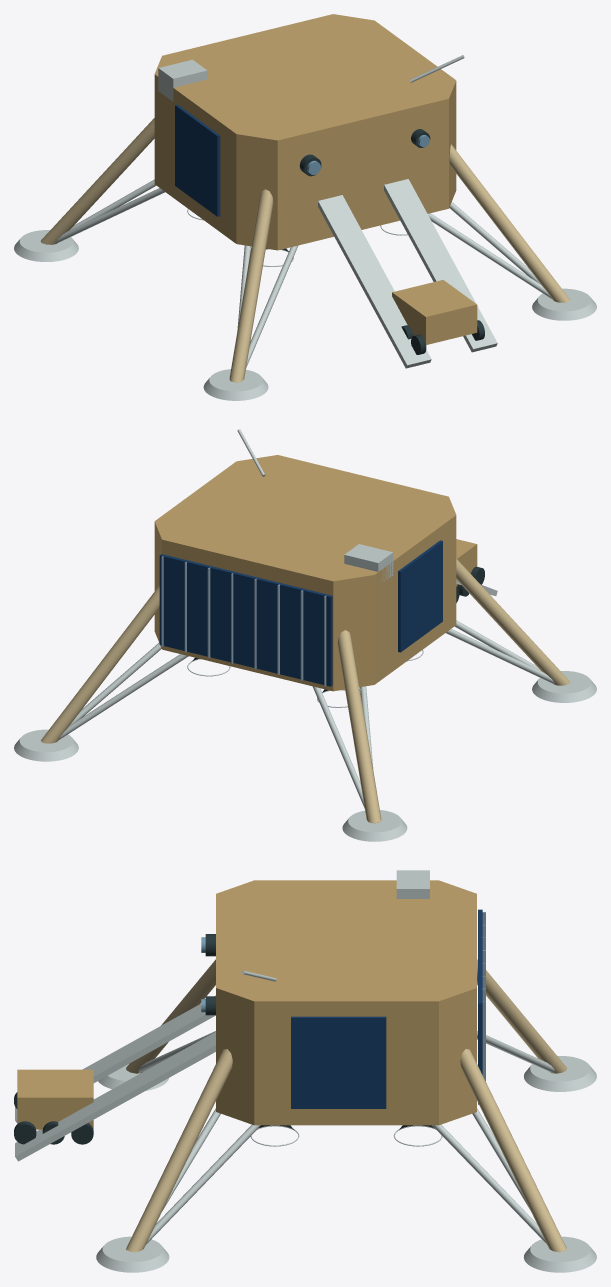
The model's file is chandrayaan-3.glb.
3 renders of one model, top to bottom at view 1: azimuth 30°, elevation 25°; view 2: azimuth 150°, elevation 25°; view 3: azimuth 270°, elevation 25°, orthographic. The views are drawn at different scales.
Parts seen in each view (by area): view 1: Vikram-cut-corner-body, Pragyan-deployment-ramp (×2), legs, Pragyan-rover-envelope, Vikram-side-cell-surface, landing-leg-2, landing-leg-1, landing-leg-3, landing-footpad-2, landing-footpad-1, landing-footpad-3, ChaSTE-functional-package (+1 smaller); view 2: Vikram-cut-corner-body, Vikram-side-solar-array, legs, Vikram-side-cell-surface, landing-leg-3, landing-leg-4, solar, landing-leg-2, landing-footpad-3, landing-footpad-4, landing-footpad-2, ChaSTE-functional-package (+1 smaller); view 3: Vikram-cut-corner-body, Vikram-side-cell-surface, Pragyan-deployment-ramp (×2), legs, Pragyan-rover-envelope, landing-leg-4, landing-leg-1, landing-leg-3, landing-footpad-4, landing-footpad-1, landing-footpad-3, landing-leg-2 (+5 smaller).
Boxes of the visible parts, <box> form: Vikram-cut-corner-body: <box>154,14,456,250</box>; Pragyan-deployment-ramp (×2): <box>318,179,497,368</box>; legs: <box>56,179,552,367</box>; Pragyan-rover-envelope: <box>392,280,477,344</box>; Vikram-side-cell-surface: <box>175,104,220,216</box>; landing-leg-2: <box>229,189,273,382</box>; landing-leg-1: <box>449,144,570,302</box>; landing-leg-3: <box>40,118,154,244</box>; landing-footpad-2: <box>203,369,268,400</box>; landing-footpad-1: <box>532,288,596,320</box>; landing-footpad-3: <box>14,230,78,261</box>; ChaSTE-functional-package: <box>158,59,207,101</box>; Vikram-cut-corner-body: <box>154,455,456,691</box>; Vikram-side-solar-array: <box>159,554,332,686</box>; legs: <box>58,620,554,808</box>; Vikram-side-cell-surface: <box>398,540,442,652</box>; landing-leg-3: <box>337,630,381,823</box>; landing-leg-4: <box>41,585,159,743</box>; solar: <box>161,556,326,686</box>; landing-leg-2: <box>456,559,570,685</box>; landing-footpad-3: <box>342,810,407,841</box>; landing-footpad-4: <box>14,729,78,761</box>; landing-footpad-2: <box>532,671,596,702</box>; ChaSTE-functional-package: <box>344,544,393,581</box>; Vikram-cut-corner-body: <box>216,880,476,1125</box>; Vikram-side-cell-surface: <box>291,1016,386,1108</box>; Pragyan-deployment-ramp (×2): <box>15,995,215,1161</box>; legs: <box>138,1031,554,1244</box>; Pragyan-rover-envelope: <box>17,1069,93,1129</box>; landing-leg-4: <box>460,1049,566,1252</box>; landing-leg-1: <box>126,1049,232,1252</box>; landing-leg-3: <box>477,959,566,1073</box>; landing-footpad-4: <box>523,1236,596,1272</box>; landing-footpad-1: <box>96,1236,169,1272</box>; landing-footpad-3: <box>524,1056,596,1091</box>; landing-leg-2: <box>126,959,215,1073</box>.
Bounding box in the file's own units: 3.15 × 1.79 × 3.66.
